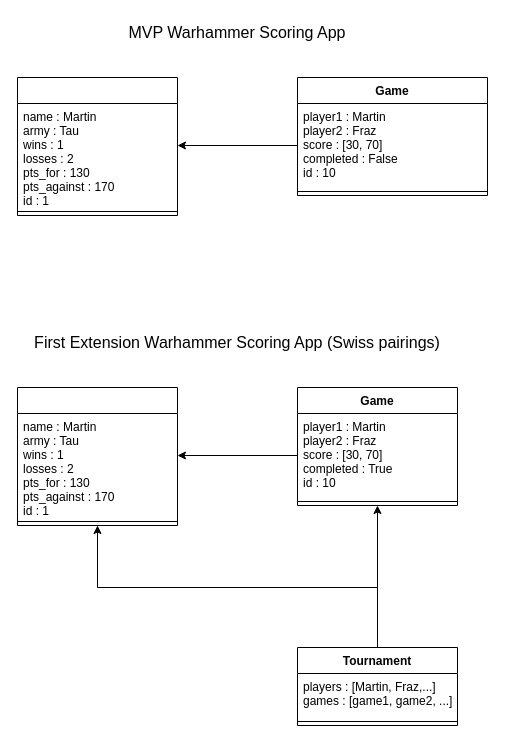
The diagram is 505 pixels wide and 743 high, and some of its shapes have lost their labels. Each missing label, with the box of its shape:
Player: (16, 386, 178, 526)
Player - Martin: (16, 76, 178, 216)
